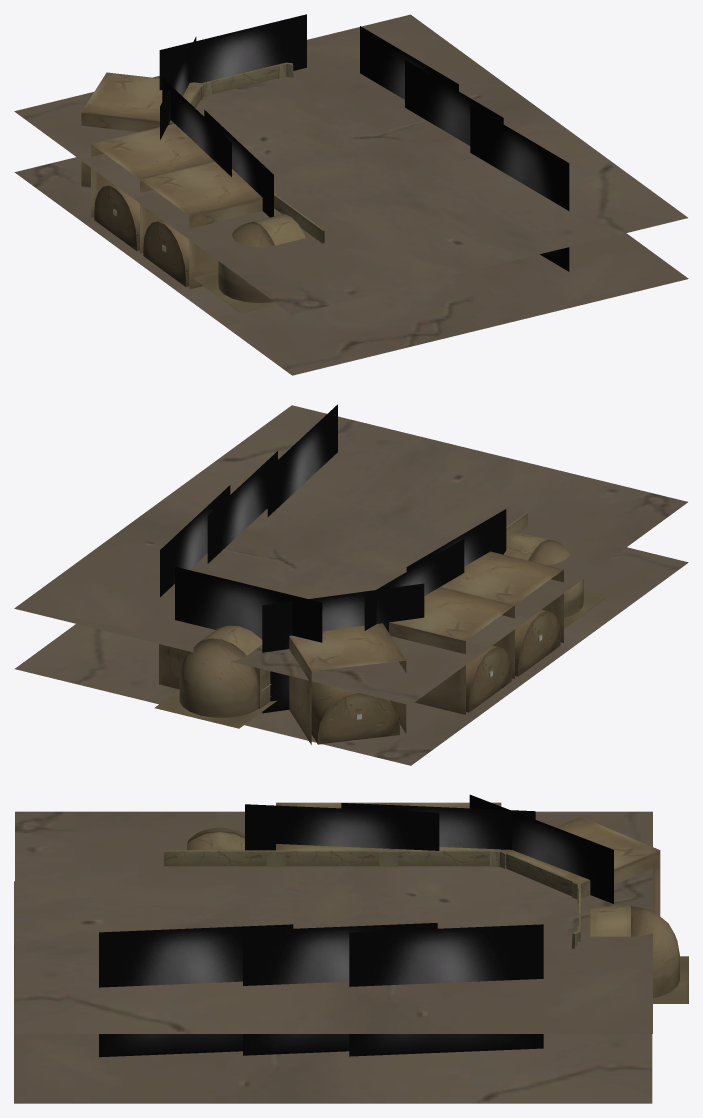
Rendered from env_tatooine_cantina_pre.glb.
3 renders of one model, top to bottom at view 1: azimuth 30°, elevation 25°; view 2: azimuth 150°, elevation 25°; view 3: azimuth 270°, elevation 25°, orthographic. The views are drawn at different scales.
Visible parts, largest first — view 1: cantina_floor_mesh (×2), fogplane_01_mesh (×7), cantina_booth_01_mesh (×3), cantina_roundnook_mesh, cantina_ceilingtrim_02_mesh; view 2: cantina_floor_mesh (×2), fogplane_01_mesh (×7), cantina_booth_01_mesh (×3), cantina_entry_mesh, cantina_roundnook_mesh; view 3: cantina_floor_mesh (×2), fogplane_01_mesh (×6), cantina_ceilingtrim_02_mesh (×4), cantina_booth_01_mesh (×3), cantina_entry_mesh, cantina_roundnook_mesh.
Boxes of the visible parts, x1,y1,x2,y2 form: cantina_floor_mesh (×2): (14, 14, 688, 375); fogplane_01_mesh (×7): (159, 14, 569, 271); cantina_booth_01_mesh (×3): (81, 72, 262, 289); cantina_roundnook_mesh: (193, 195, 322, 313); cantina_ceilingtrim_02_mesh: (202, 62, 286, 94); cantina_floor_mesh (×2): (14, 405, 688, 765); fogplane_01_mesh (×7): (160, 404, 506, 713); cantina_booth_01_mesh (×3): (289, 551, 563, 744); cantina_entry_mesh: (155, 625, 276, 728); cantina_roundnook_mesh: (504, 513, 609, 628); cantina_floor_mesh (×2): (14, 811, 652, 1103); fogplane_01_mesh (×6): (99, 794, 613, 1057); cantina_ceilingtrim_02_mesh (×4): (163, 850, 579, 895); cantina_booth_01_mesh (×3): (276, 802, 660, 916); cantina_entry_mesh: (590, 906, 688, 1003); cantina_roundnook_mesh: (187, 827, 244, 850).
Bounding box in the file's own units: 28.02 × 7.92 × 35.96.
Materials: 8 (8 with a texture image).
